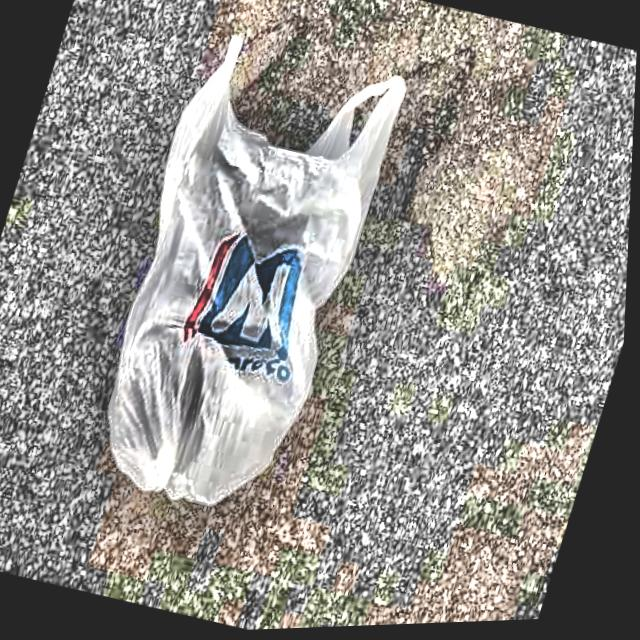Plastic: (54, 11, 431, 557)
